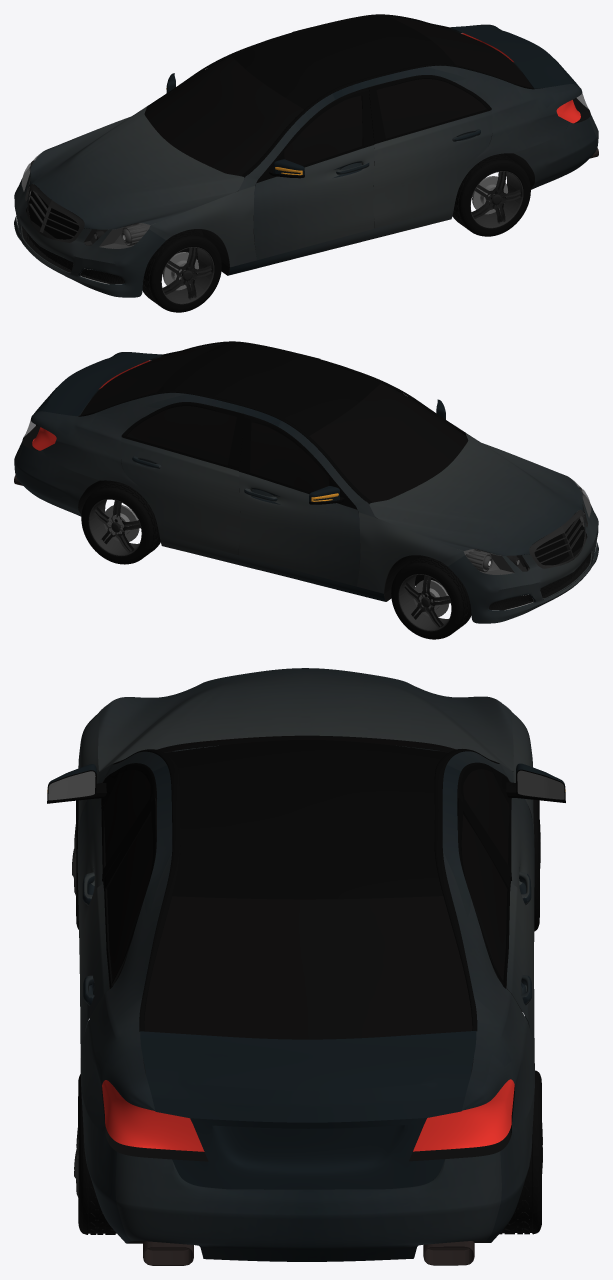
3 renders of one model, top to bottom at view 1: azimuth 30°, elevation 25°; view 2: azimuth 150°, elevation 25°; view 3: azimuth 270°, elevation 25°, orthographic. The views are drawn at different scales.
Parts seen in each view (by area): view 1: Plane_5, Plane.010_15, Plane.008_13, Plane.003_8, Plane.007_12, Plane.006_11, Plane.002_7, Plane.013_18, Plane.001_6, Plane.028_36, Plane.029_40, Plane.014_19 (+18 smaller); view 2: Plane_5, Plane.010_15, Plane.008_13, Plane.003_8, Plane.007_12, Plane.006_11, Plane.002_7, Plane.013_18, Plane.001_6, Plane.031_48, Plane.030_44, Plane.014_19 (+18 smaller); view 3: Plane.004_9, Plane.011_16, Plane.008_13, Plane.005_10, Plane_5, Plane.003_8, Plane.024_29, Plane.013_18, Plane.015_20, Plane.006_11, Plane.014_19, Plane.007_12 (+8 smaller).
Boxes of the visible parts, <box> form: Plane_5: <box>29,106,244,229</box>; Plane.010_15: <box>144,57,303,176</box>; Plane.008_13: <box>232,16,455,109</box>; Plane.003_8: <box>146,16,582,275</box>; Plane.007_12: <box>253,145,374,260</box>; Plane.006_11: <box>373,110,492,228</box>; Plane.002_7: <box>14,172,165,297</box>; Plane.013_18: <box>369,75,486,138</box>; Plane.001_6: <box>72,135,256,267</box>; Plane.028_36: <box>142,229,221,312</box>; Plane.029_40: <box>452,153,530,236</box>; Plane.014_19: <box>209,65,368,165</box>; Plane_5: <box>369,433,583,555</box>; Plane.010_15: <box>309,383,468,502</box>; Plane.008_13: <box>157,343,380,435</box>; Plane.003_8: <box>31,343,466,601</box>; Plane.007_12: <box>239,472,360,586</box>; Plane.006_11: <box>121,438,240,555</box>; Plane.002_7: <box>448,497,598,623</box>; Plane.013_18: <box>126,402,244,465</box>; Plane.001_6: <box>357,462,537,593</box>; Plane.031_48: <box>391,555,471,639</box>; Plane.030_44: <box>81,481,160,564</box>; Plane.014_19: <box>242,392,405,492</box>; Plane.004_9: <box>140,1031,476,1189</box>; Plane.011_16: <box>144,896,472,1039</box>; Plane.008_13: <box>165,740,448,899</box>; Plane.005_10: <box>81,1090,534,1261</box>; Plane_5: <box>98,668,513,771</box>; Plane.003_8: <box>80,751,534,1128</box>; Plane.024_29: <box>101,1079,514,1161</box>; Plane.013_18: <box>107,798,507,982</box>; Plane.015_20: <box>47,762,565,881</box>; Plane.006_11: <box>80,883,534,1057</box>; Plane.014_19: <box>103,769,509,864</box>; Plane.007_12: <box>77,798,534,1030</box>.
Size of the model in its own units: 2.88 by 0.8739 by 1.23.
19 materials, 1 textured.
